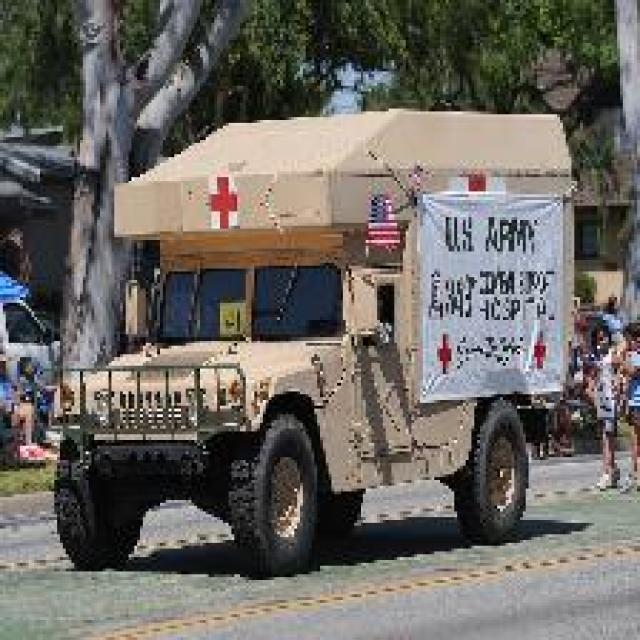emergency: (50, 106, 580, 578)
